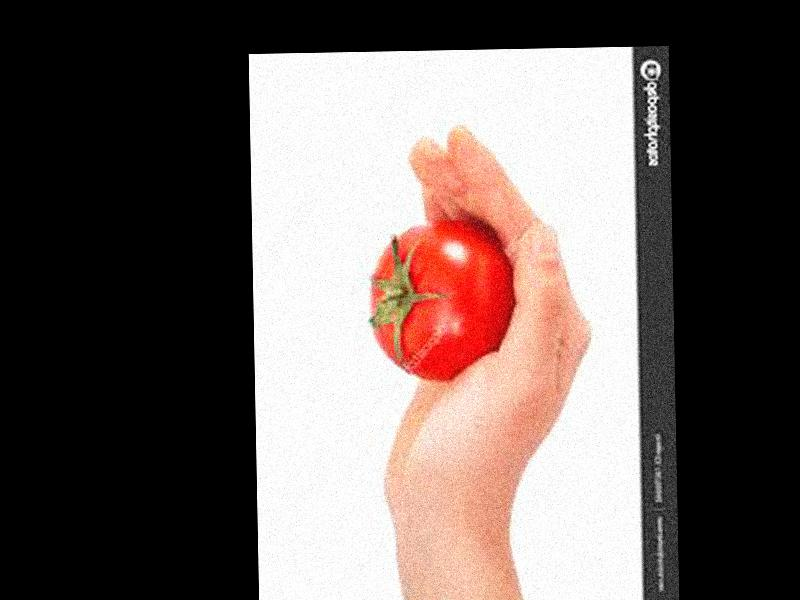Tomato: (370, 224, 513, 384)
